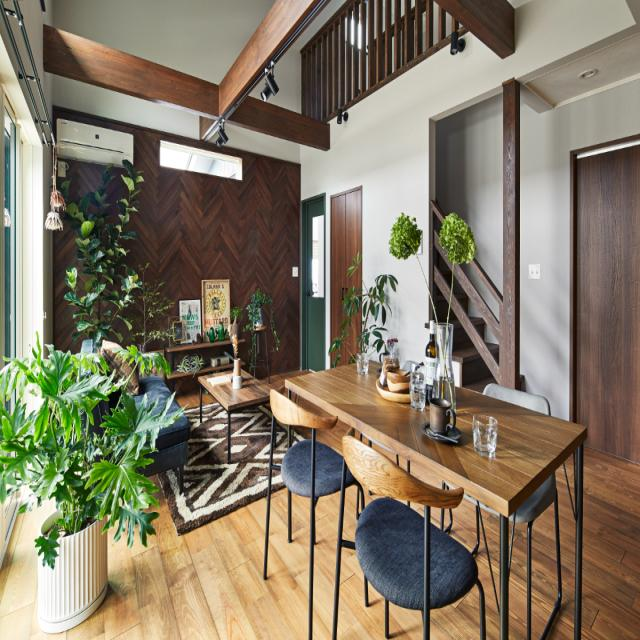vintage chair: (340, 434, 493, 638), (264, 386, 346, 640)
vintage desk: (284, 353, 585, 640), (195, 364, 268, 463)
vintage sofa: (98, 334, 190, 488)
